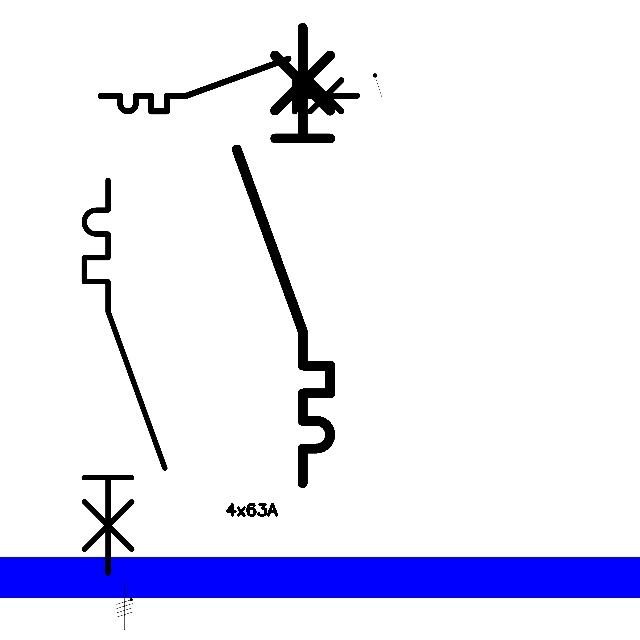interruptor_termomagnetico: (225, 16, 342, 495), (74, 170, 175, 583), (94, 52, 363, 118)
